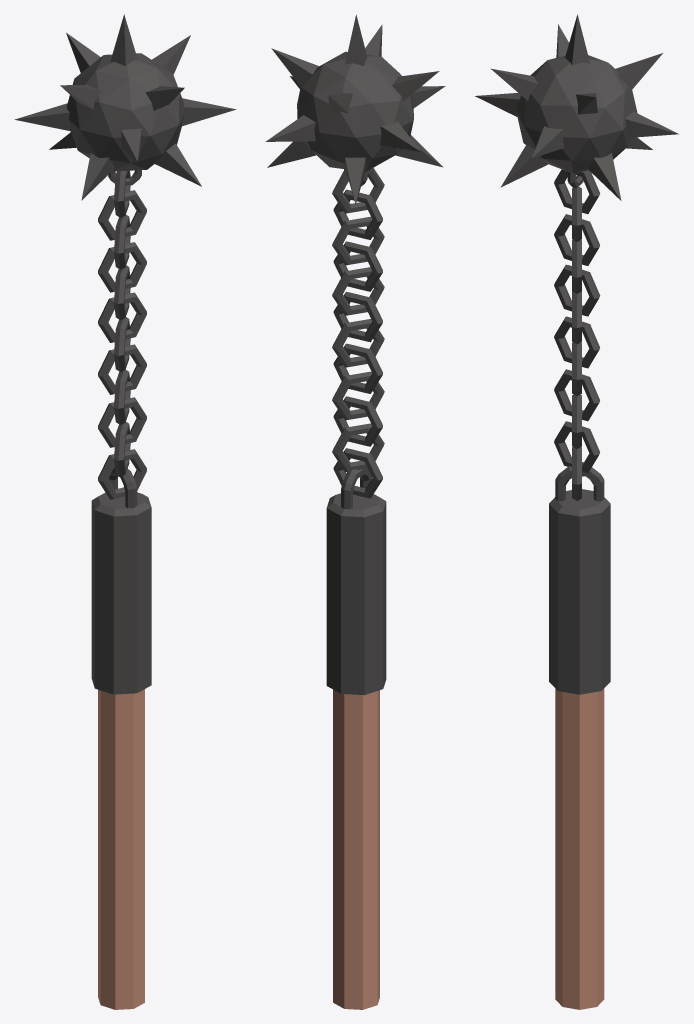
Rendered from maces2.glb.
The picture shows the model from 3 angles, left to right: view 1: azimuth 30°, elevation 25°; view 2: azimuth 150°, elevation 25°; view 3: azimuth 270°, elevation 25°; orthographic projection.
Visible parts, largest first — view 1: Flail; view 2: Flail; view 3: Flail.
Part boxes in pixels (x1=…): Flail: x1=14, y1=14, x2=236, y2=1009; Flail: x1=265, y1=14, x2=445, y2=1009; Flail: x1=475, y1=14, x2=678, y2=1009.
Size of the model in its own units: 0.2311 by 1.23 by 0.2311.
